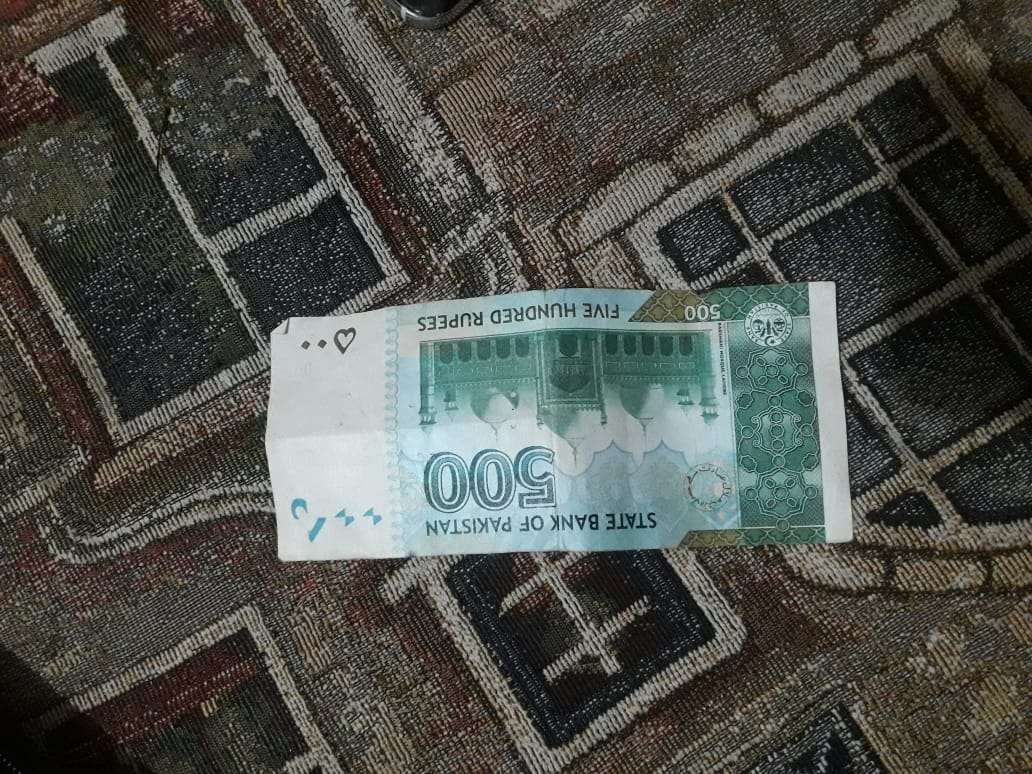500 rupee: (246, 290, 875, 598)
